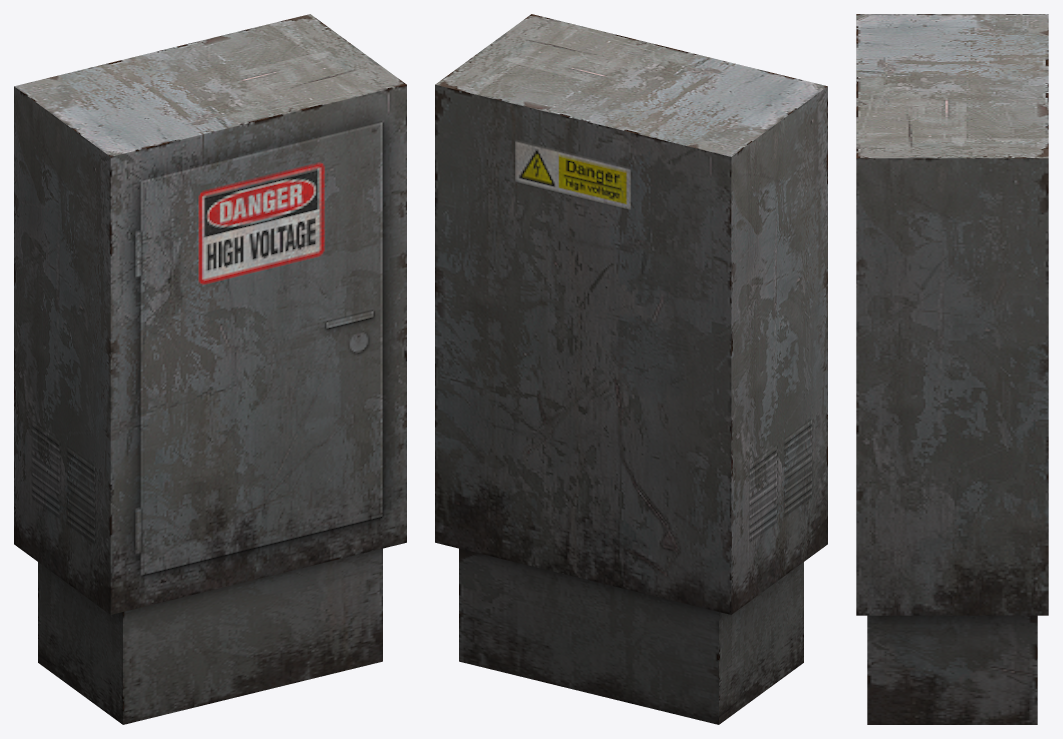
File: powerbox1.fbx
3 renders of one model, left to right at view 1: azimuth 30°, elevation 25°; view 2: azimuth 150°, elevation 25°; view 3: azimuth 270°, elevation 25°, orthographic.
Visible parts, largest first — view 1: powerboxes_LP_polySurface75; view 2: powerboxes_LP_polySurface75; view 3: powerboxes_LP_polySurface75.
Boxes of the visible parts, box(x1,y1,x2,y2) form: powerboxes_LP_polySurface75: box(14, 14, 406, 724); powerboxes_LP_polySurface75: box(435, 14, 827, 724); powerboxes_LP_polySurface75: box(856, 14, 1048, 724).
Size of the model in its own units: 1.01 by 1.89 by 0.5721.
